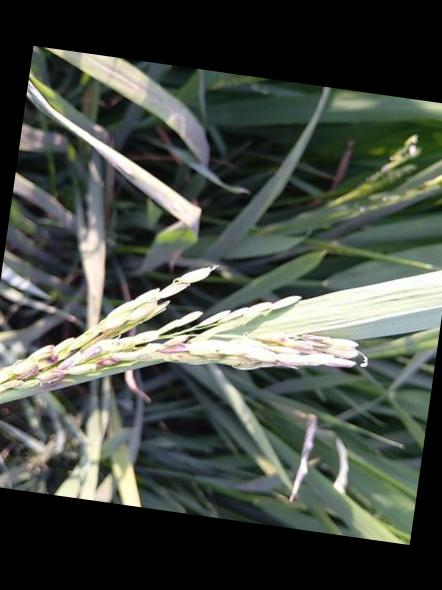Panicle Blight: (1, 332, 84, 383), (232, 347, 354, 370), (65, 346, 125, 371), (155, 339, 200, 353), (42, 369, 66, 381)
